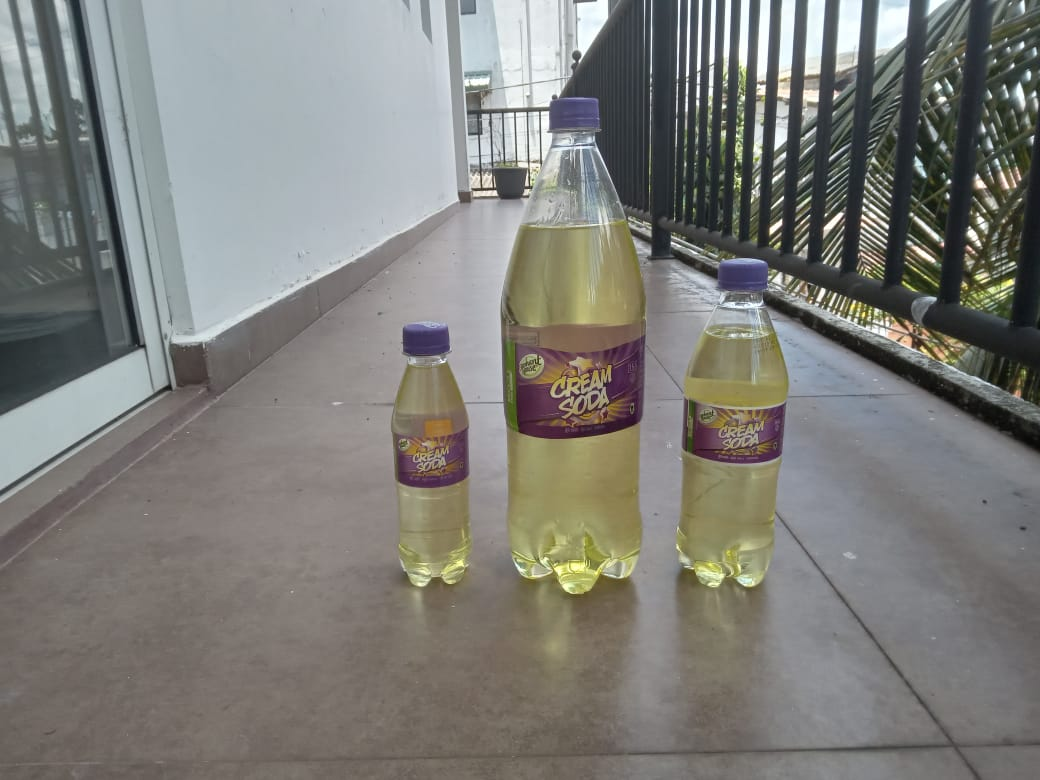L: (499, 98, 648, 597)
S: (677, 260, 791, 593)
Xs: (390, 319, 474, 589)
